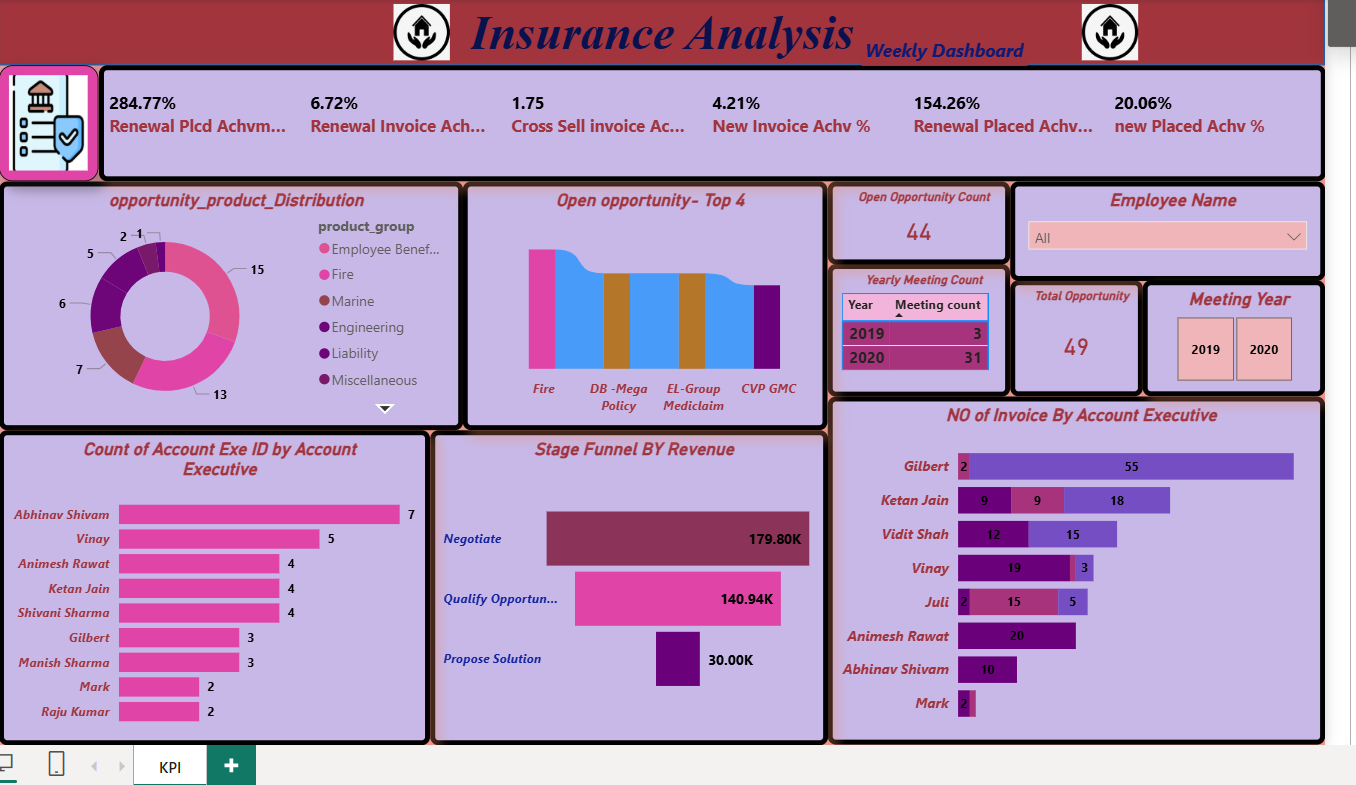

This screenshot's page, from the dashboard's own definition file:
{"tool":"powerbi","page":{"name":"KPI","canvas":[1280,720],"ordinal":0},"visuals":[{"type":"actionButton","box":[0,0,100,40],"z":0},{"type":"donutChart","title":" opportunity_product_Distribution","fields":{"Category":["Opportunity.product_group"],"Y":["CountNonNull(Opportunity.opportunity_id)"]},"box":[0,176,448,240],"z":1000},{"type":"tableEx","title":"Yearly Meeting Count","fields":{"Values":["Meeting.meeting_date.Variation.Date Hierarchy.Year","Table.Meeting count"]},"box":[800,256,176,128],"z":2000},{"type":"card","title":"Total Opportunity","fields":{"Values":["Table.total_Opportunuty"]},"box":[976,272,128,112],"z":3000},{"type":"card","title":"Open Opportunity Count","fields":{"Values":["Table.openOpportunity Count"]},"box":[800,176,176,80],"z":4000},{"type":"shape","box":[0,0,1280,64],"z":5000},{"type":"image","box":[368,0,80,64],"z":6000},{"type":"image","box":[1024,0,96,64],"z":7000},{"type":"barChart","title":"NO  of Invoice  By  Account Executive ","fields":{"Category":["Invoice.Account Executive"],"Y":["Count(Invoice.invoice_number)"],"Series":["Invoice.income_class"]},"box":[800,384,480,336],"z":8000},{"type":"funnel","title":"Stage Funnel BY Revenue","fields":{"Y":["Avg(Opportunity.revenue_amount)"],"Category":["Opportunity.stage"]},"box":[416,416,384,304],"z":9000},{"type":"ribbonChart","title":"Open opportunity- Top 4","fields":{"Category":["Opportunity.opportunity_name"],"Y":["Sum(Opportunity.revenue_amount)"]},"box":[448,176,352,240],"z":10000},{"type":"image","box":[0,64,96,112],"z":11000},{"type":"barChart","fields":{"Category":["Meeting.Account Executive"],"Y":["CountNonNull(Meeting.Account Exe ID)"]},"box":[0,416,416,304],"z":12000},{"type":"multiRowCard","fields":{"Values":["Table.renewal Plcd Achv %","Brokerage.Renewal Invoice Achv %","Table.Cross Sell  invoice Achievement %","Brokerage.New Invoice Achv %","Brokerage.Renewal Placed Achv %","Brokerage.new Placed Achv %"]},"box":[96,64,1184,112],"z":13000},{"type":"slicer","title":"Employee Name","fields":{"Values":["Individual_Budget.Employee Name"]},"box":[976,176,304,96],"z":14000},{"type":"slicer","title":"Meeting Year","fields":{"Values":["Meeting.meeting year"]},"box":[1104,272,176,112],"z":14001},{"type":"shape","box":[832,32,160,32],"z":14002}]}

Visuals, with their boxes in screenshot pixels (x1, y1, x2, y2):
actionButton: select_region(0, 0, 87, 35)
" opportunity_product_Distribution" donutChart: select_region(0, 177, 450, 428)
"Yearly Meeting Count" tableEx: select_region(818, 260, 1002, 394)
"Total Opportunity" card: select_region(1002, 277, 1136, 394)
"Open Opportunity Count" card: select_region(818, 177, 1002, 260)
shape: select_region(0, 0, 1320, 60)
image: select_region(367, 0, 450, 60)
image: select_region(1052, 0, 1152, 60)
"NO  of Invoice  By  Account Executive " barChart: select_region(818, 394, 1320, 745)
"Stage Funnel BY Revenue" funnel: select_region(417, 428, 818, 745)
"Open opportunity- Top 4" ribbonChart: select_region(450, 177, 818, 428)
image: select_region(0, 60, 83, 177)
barChart - Meeting.Account Executive x CountNonNull(Meeting.Account Exe ID): select_region(0, 428, 417, 745)
multiRowCard - Table.renewal Plcd Achv % x Brokerage.Renewal Invoice Achv %: select_region(83, 60, 1320, 177)
"Employee Name" slicer: select_region(1002, 177, 1320, 277)
"Meeting Year" slicer: select_region(1136, 277, 1320, 394)
shape: select_region(852, 26, 1019, 60)
